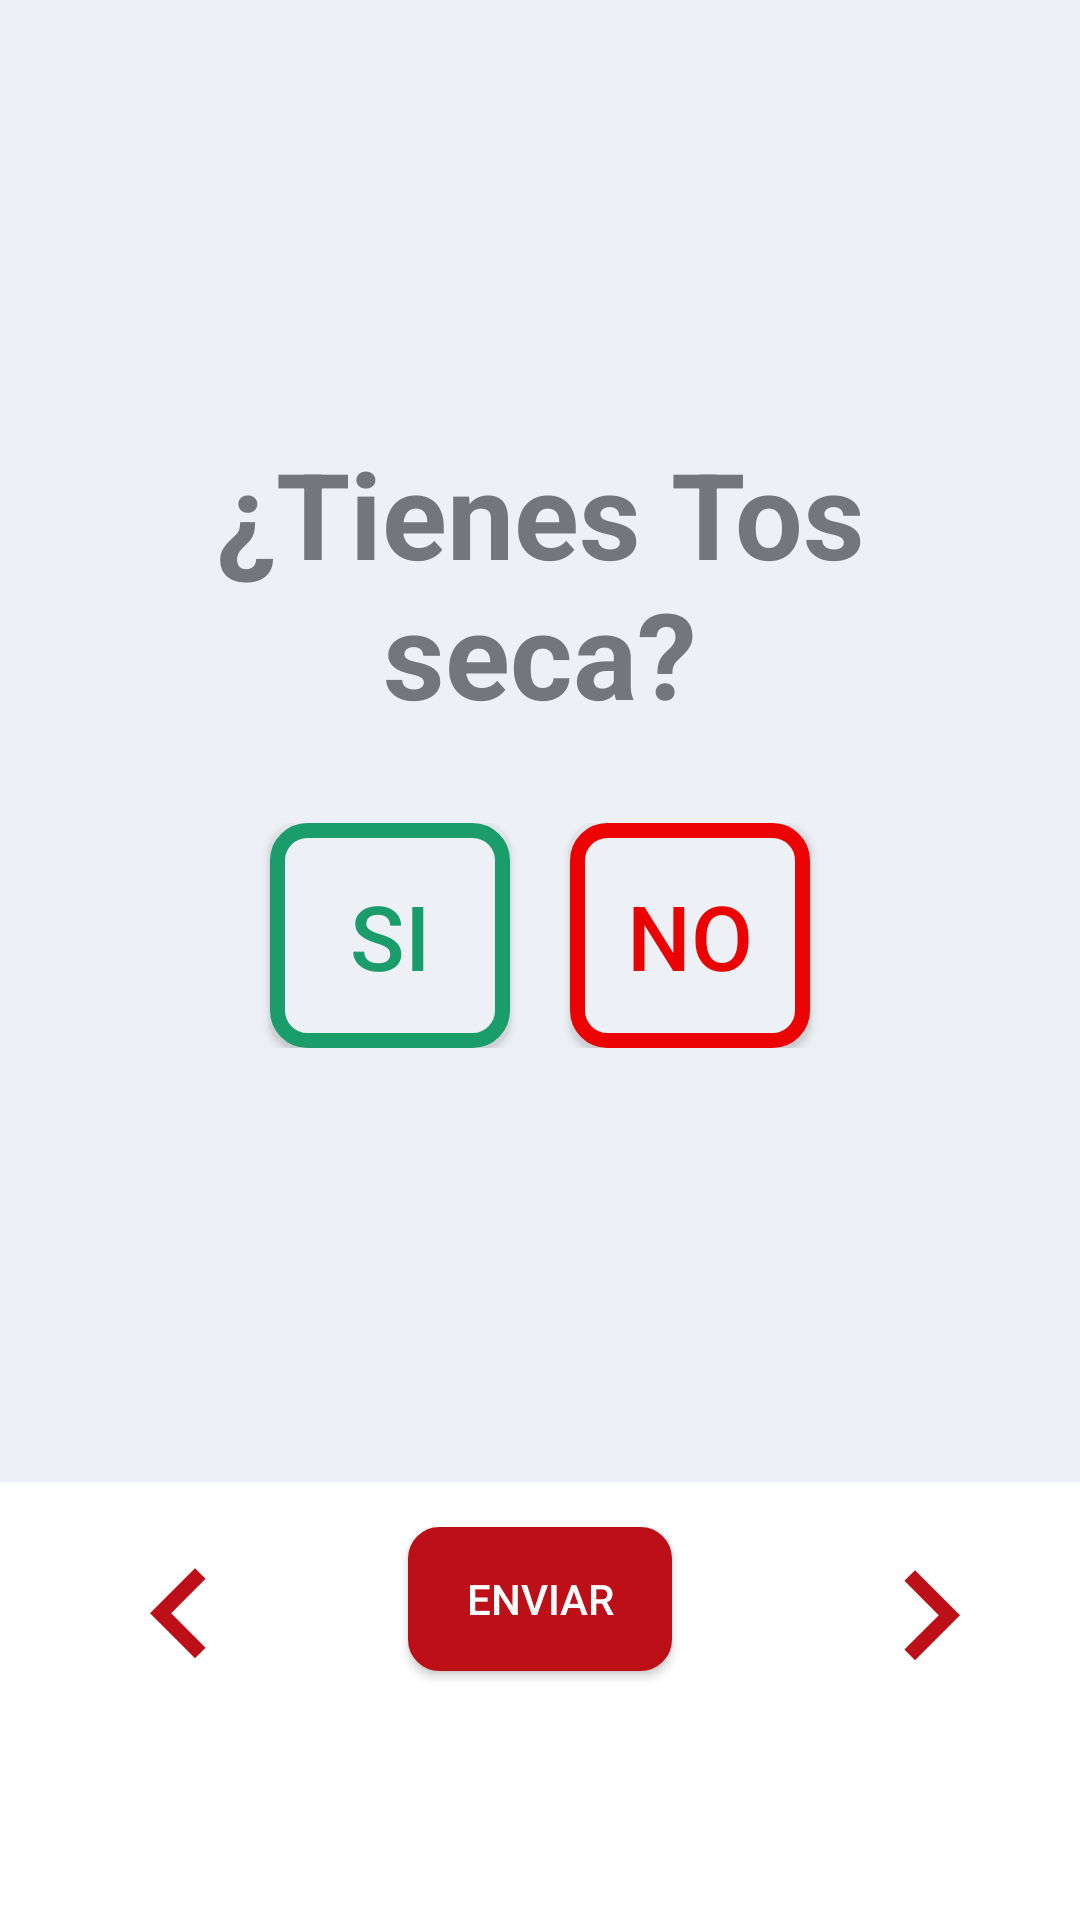

Named icons in this screenshot (1080*1920) and their centers, (x,y):
left arrow: (178,1613)
right arrow: (932,1615)
